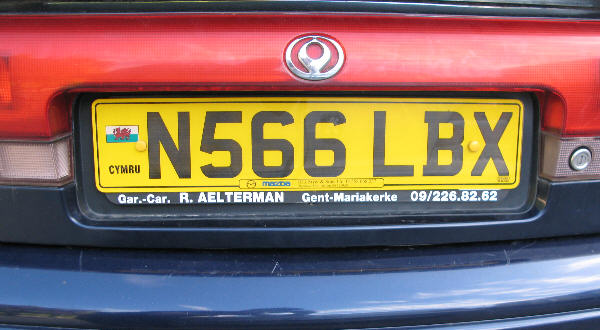license_plate: (91, 98, 521, 189)
